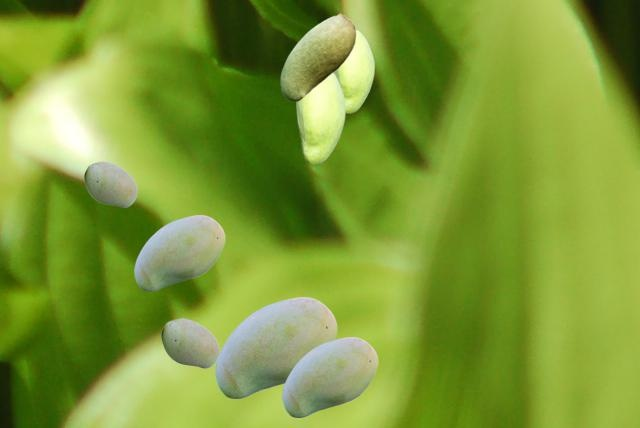green_mango: (215, 297, 336, 397), (282, 337, 377, 416), (134, 215, 224, 290), (280, 13, 355, 100), (296, 73, 344, 163), (335, 29, 373, 112), (161, 318, 218, 367), (84, 161, 136, 206)
